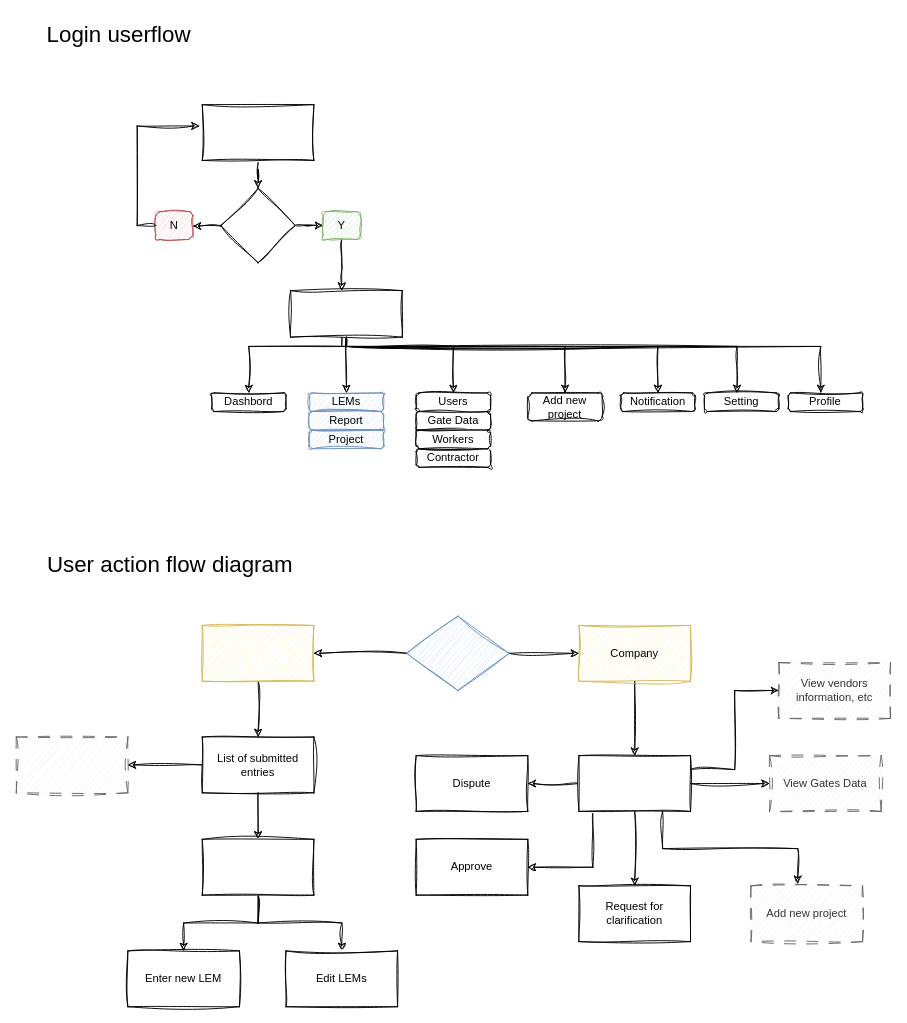
This 907x1023 diagram has some shape labels left out. The centre of each missing label's shape, as x and y in pixels:
Index page: point 257,132
LEMs (Labor, Equipment, Material): point 257,866
List of submissions from vendors: point 634,783
Login: point 257,225
Other - disputes, etc: point 71,764
Payshepherd Dashboard: point 346,313
User: point 457,653
Vendor (Contractor): point 257,652
